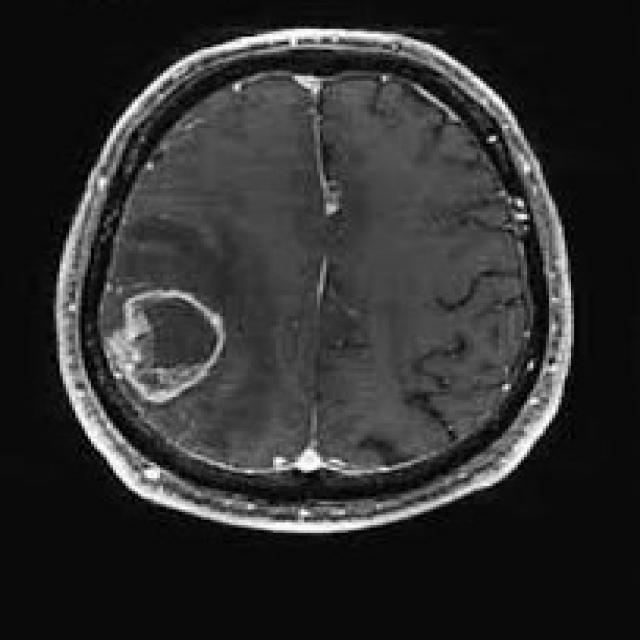tumor: (105, 291, 217, 405)
